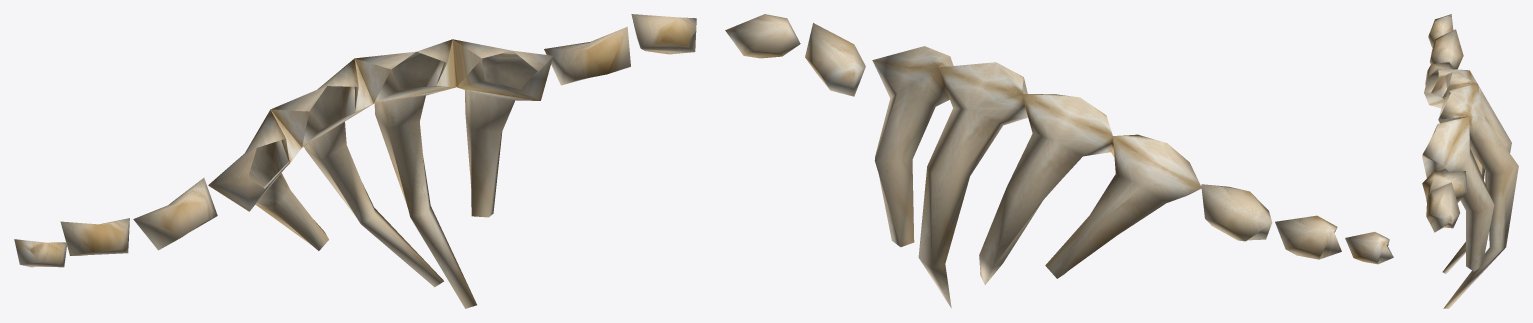
Rendered from cavewallbones02.obj.
3 views of the same model, side by side, from view 1: azimuth 30°, elevation 25°; view 2: azimuth 150°, elevation 25°; view 3: azimuth 270°, elevation 25° (orthographic). The views are drawn at different scales.
Parts seen in each view (by area): view 1: cavewallbones02; view 2: cavewallbones02; view 3: cavewallbones02.
Boxes of the visible parts, bbox=[...] form: cavewallbones02: bbox=[14, 14, 696, 308]; cavewallbones02: bbox=[725, 14, 1393, 308]; cavewallbones02: bbox=[1422, 14, 1518, 308].
Bounding box in the file's own units: 4.71 × 1.76 × 0.7767.
Materials: 1 (1 with a texture image).
